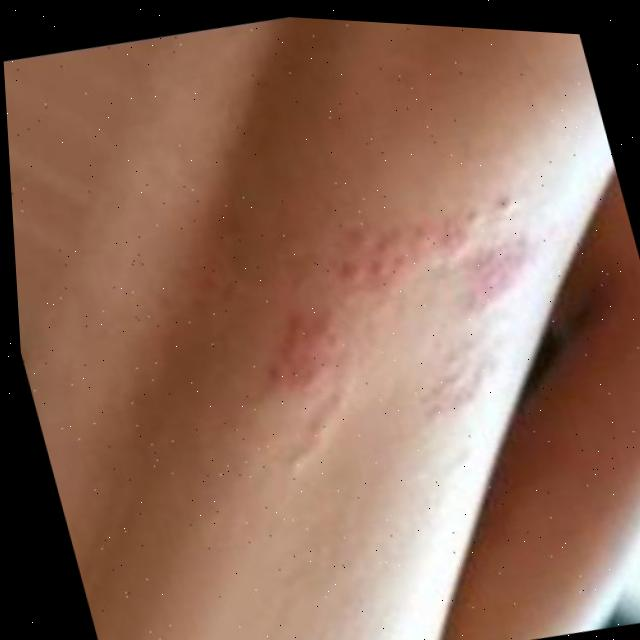Shingles: (203, 168, 588, 498)
